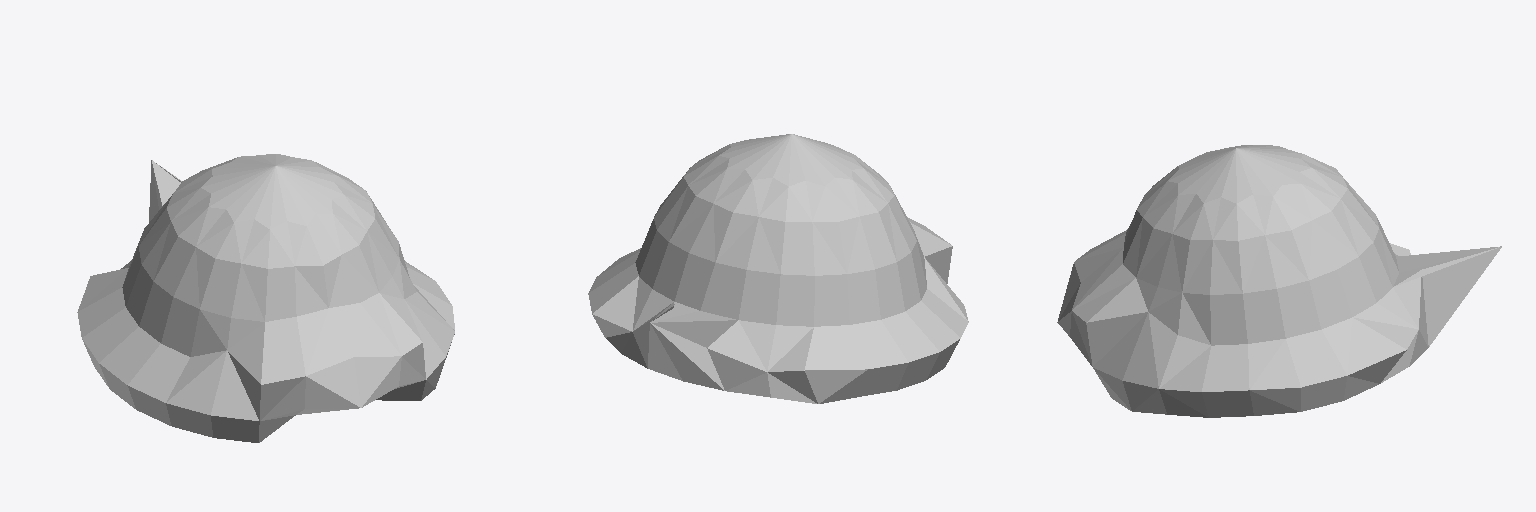
File: body.obj
The picture shows the model from 3 angles: view 1: azimuth 30°, elevation 25°; view 2: azimuth 150°, elevation 25°; view 3: azimuth 270°, elevation 25°; orthographic projection.
Parts seen in each view (by area): view 1: polySurface1 animal:Mesh; view 2: polySurface1 animal:Mesh; view 3: polySurface1 animal:Mesh.
Part boxes in pixels (x1,y1,x2,y2): polySurface1 animal:Mesh: (77, 154, 454, 442); polySurface1 animal:Mesh: (588, 134, 968, 403); polySurface1 animal:Mesh: (1057, 145, 1501, 417).
Size of the model in its own units: 9 by 5.58 by 10.54.